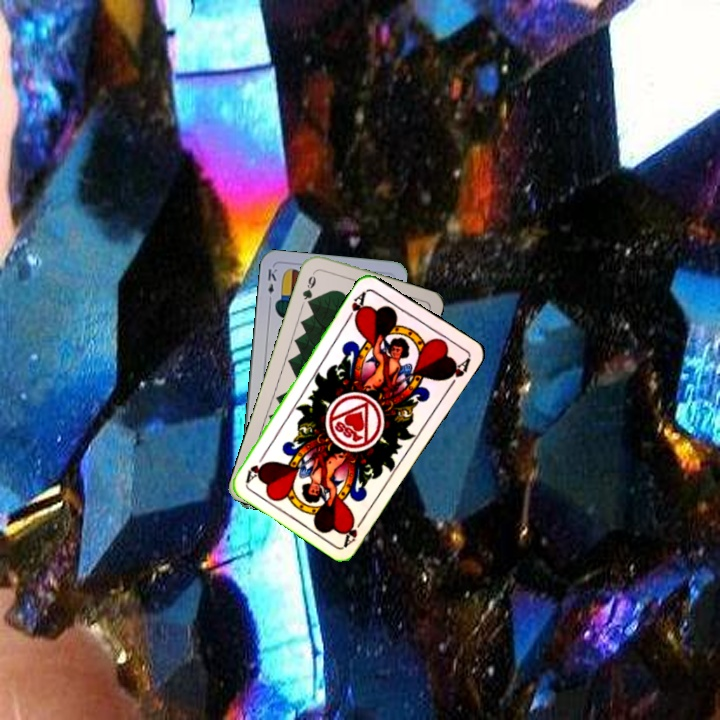EK: (264, 264, 279, 305)
G9: (298, 267, 318, 308)
HA: (342, 287, 369, 326), (340, 511, 368, 548)
